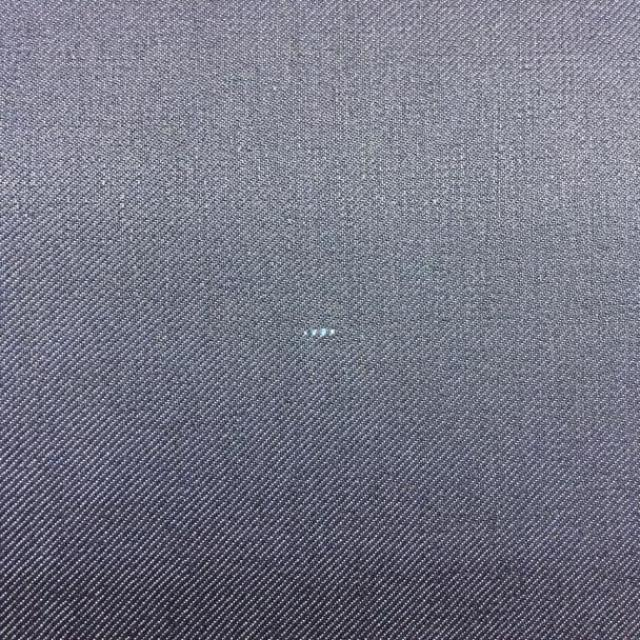Knot: (304, 327, 336, 338)
